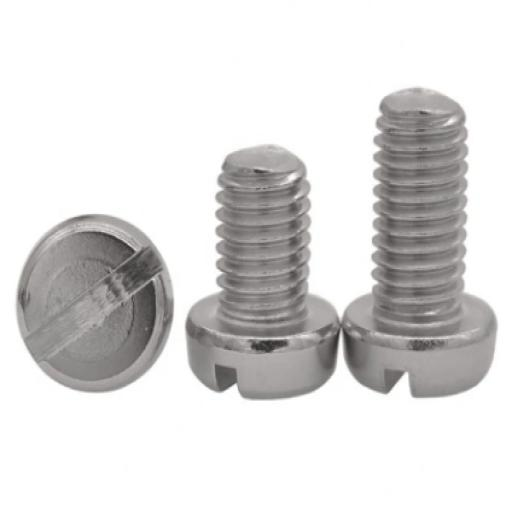Slotted: (16, 216, 174, 391)
